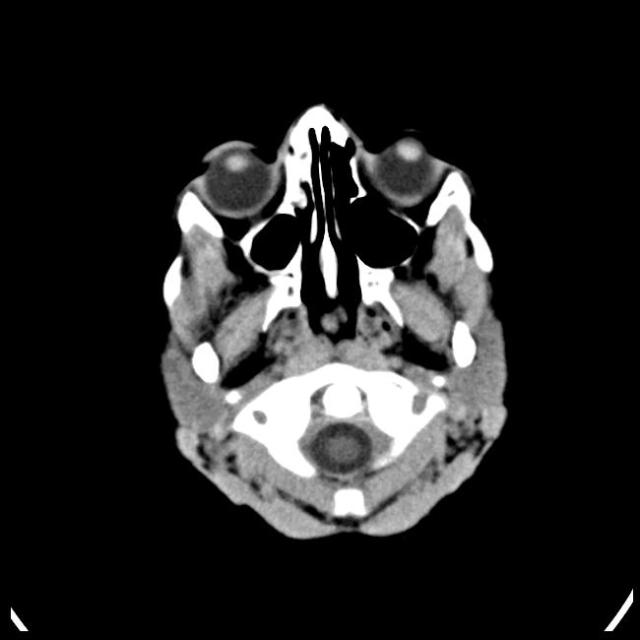lesion: (155, 100, 514, 544)
